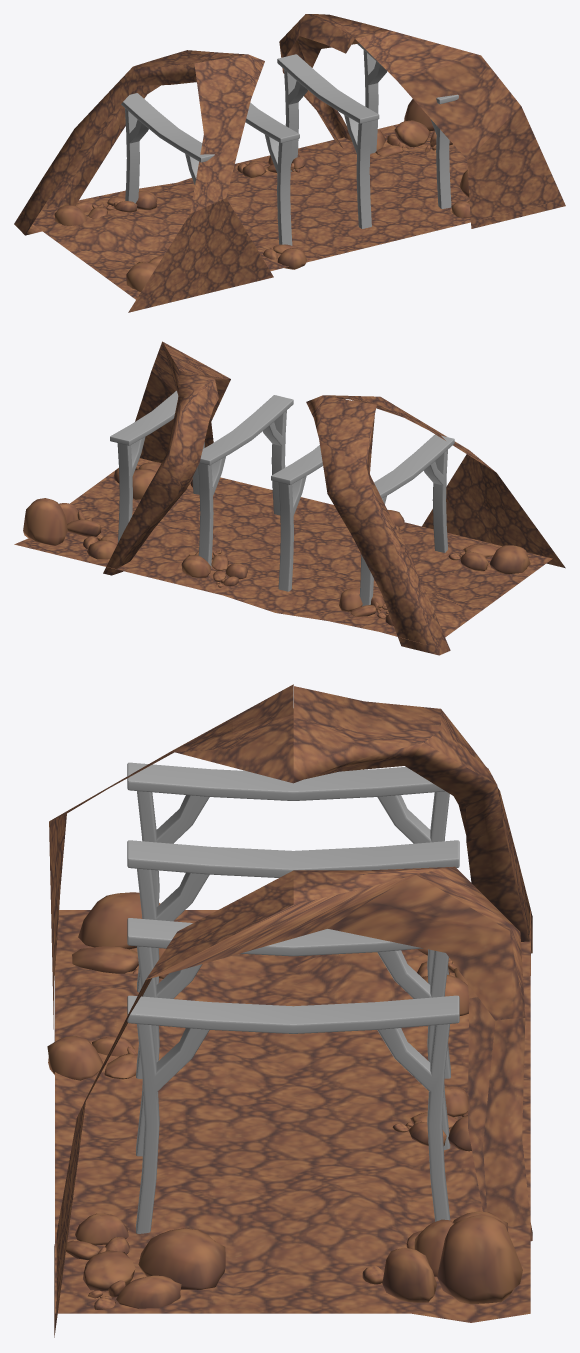
File: Blocking_Scene_Cave 1.fbx
3 renders of one model, top to bottom at view 1: azimuth 30°, elevation 25°; view 2: azimuth 150°, elevation 25°; view 3: azimuth 270°, elevation 25°, orthographic. The views are drawn at different scales.
Visible parts, largest first — view 1: Back_Wall, Piso, Front_Wall, Viga_01, Viga_03, Viga_02, Viga_00, GrpRocks (×4), GrpRocks2; view 2: Piso, Front_Wall, Back_Wall, Viga_01, GrpRocks (×6), Viga_03, Viga_00, Viga_02, GrpRocks2, GrpRocks1; view 3: Piso, Front_Wall, Viga_00, GrpRocks (×5), Back_Wall, Viga_03, Viga_02, Viga_01, GrpRocks2 (×3), GrpRocks1 (×2).
Part boxes in pixels (x1=…): Back_Wall: x1=128, y1=30, x2=565, y2=312; Piso: x1=33, y1=124, x2=553, y2=301; Front_Wall: x1=14, y1=14, x2=389, y2=235; Viga_01: x1=277, y1=54, x2=379, y2=228; Viga_03: x1=121, y1=93, x2=214, y2=208; Viga_02: x1=245, y1=102, x2=299, y2=245; Viga_00: x1=357, y1=43, x2=458, y2=208; GrpRocks (×4): x1=54, y1=99, x2=434, y2=291; GrpRocks2: x1=394, y1=120, x2=430, y2=147; Piso: x1=14, y1=458, x2=552, y2=646; Front_Wall: x1=103, y1=342, x2=450, y2=655; Back_Wall: x1=135, y1=341, x2=565, y2=568; Viga_01: x1=198, y1=395, x2=293, y2=568; GrpRocks (×6): x1=23, y1=469, x2=530, y2=611; Viga_03: x1=359, y1=434, x2=454, y2=606; Viga_00: x1=110, y1=390, x2=204, y2=543; Viga_02: x1=271, y1=445, x2=322, y2=591; GrpRocks2: x1=67, y1=519, x2=101, y2=536; GrpRocks1: x1=460, y1=551, x2=488, y2=571; Piso: x1=55, y1=910, x2=530, y2=1322; Front_Wall: x1=147, y1=686, x2=532, y2=1241; Viga_00: x1=127, y1=995, x2=459, y2=1233; GrpRocks (×5): x1=47, y1=892, x2=522, y2=1304; Back_Wall: x1=49, y1=684, x2=293, y2=1337; Viga_03: x1=127, y1=762, x2=449, y2=992; Viga_02: x1=127, y1=840, x2=459, y2=1078; Viga_01: x1=127, y1=918, x2=450, y2=1156; GrpRocks2 (×3): x1=72, y1=946, x2=454, y2=1291; GrpRocks1 (×2): x1=116, y1=1248, x2=436, y2=1308.
Size of the model in its own units: 25.51 by 9.99 by 12.24.
